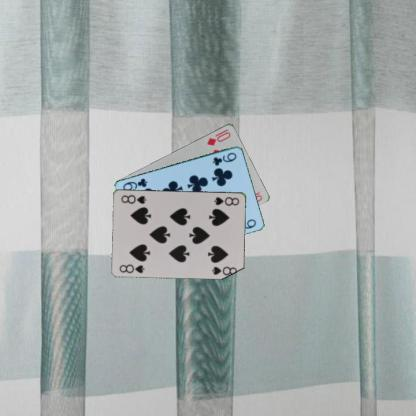10d: (204, 126, 232, 147)
8s: (212, 194, 240, 207), (116, 262, 146, 274)
9c: (210, 150, 238, 167)
